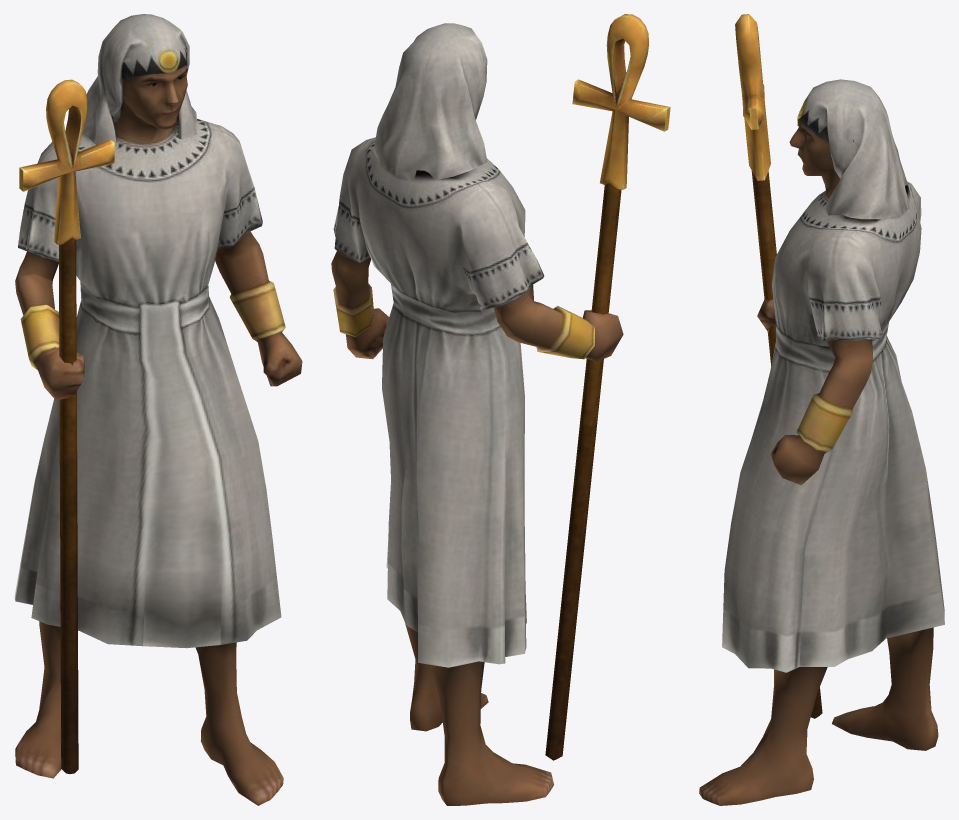
Rendered from 62-priest.glb.
3 views of the same model, side by side, from view 1: azimuth 30°, elevation 25°; view 2: azimuth 150°, elevation 25°; view 3: azimuth 270°, elevation 25° (orthographic). The views are drawn at different scales.
Size of the model in its own units: 1.01 by 2.43 by 0.7726.
Materials: 2 (2 with a texture image).
